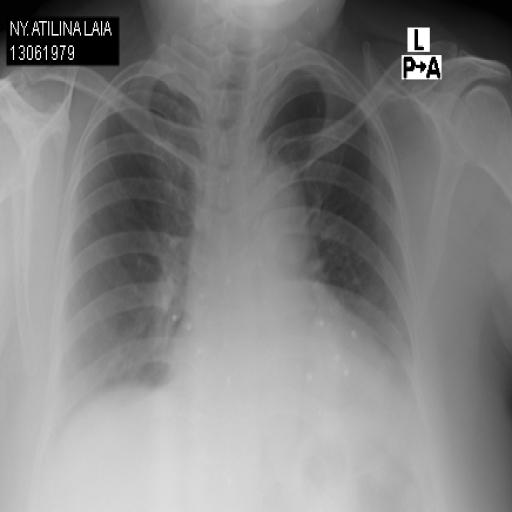kardiomegali: (35, 44, 410, 446)
